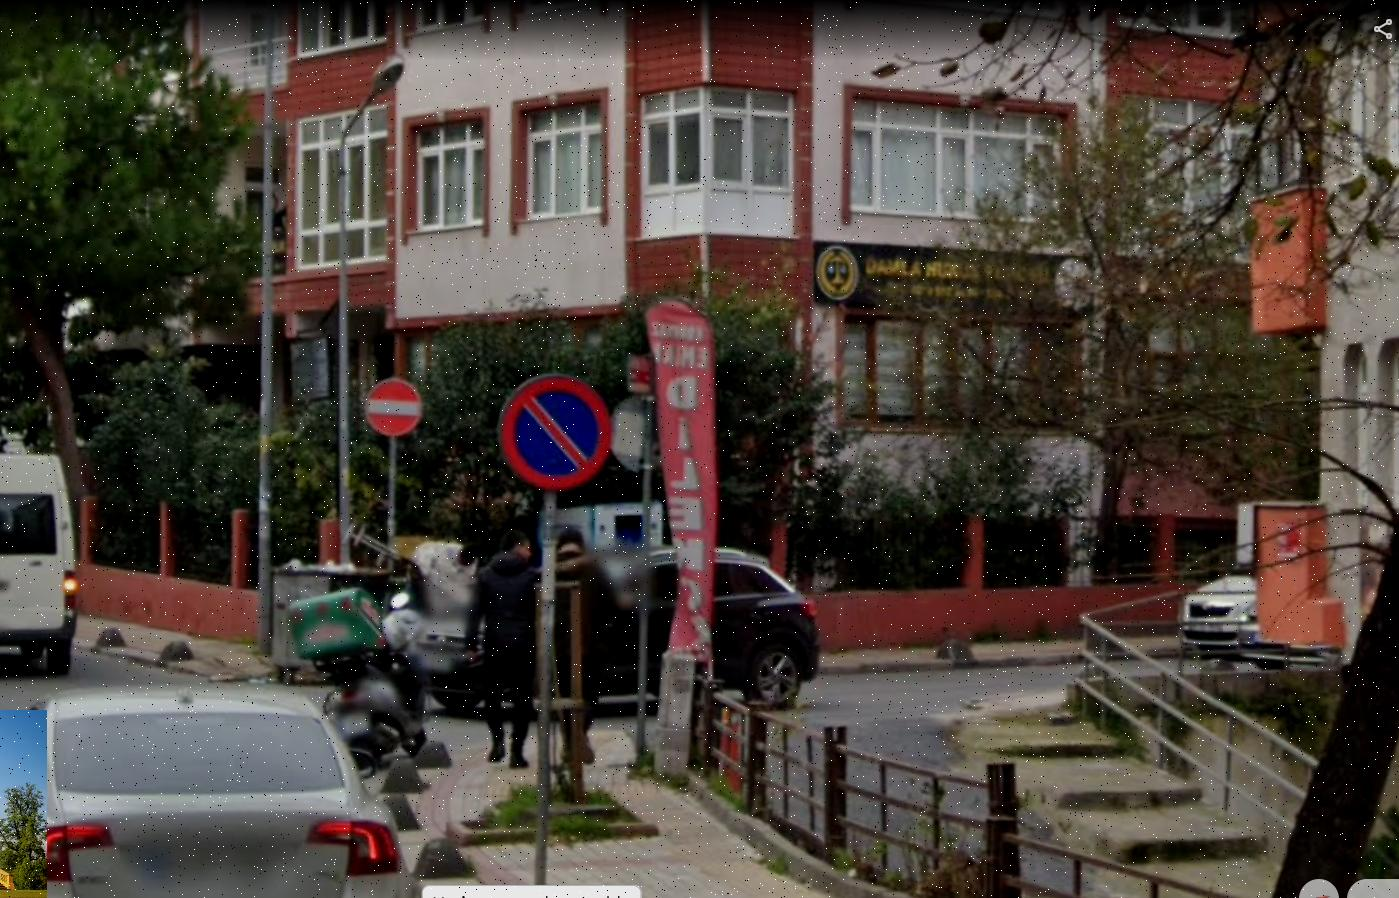nopark: (505, 379, 605, 488)
